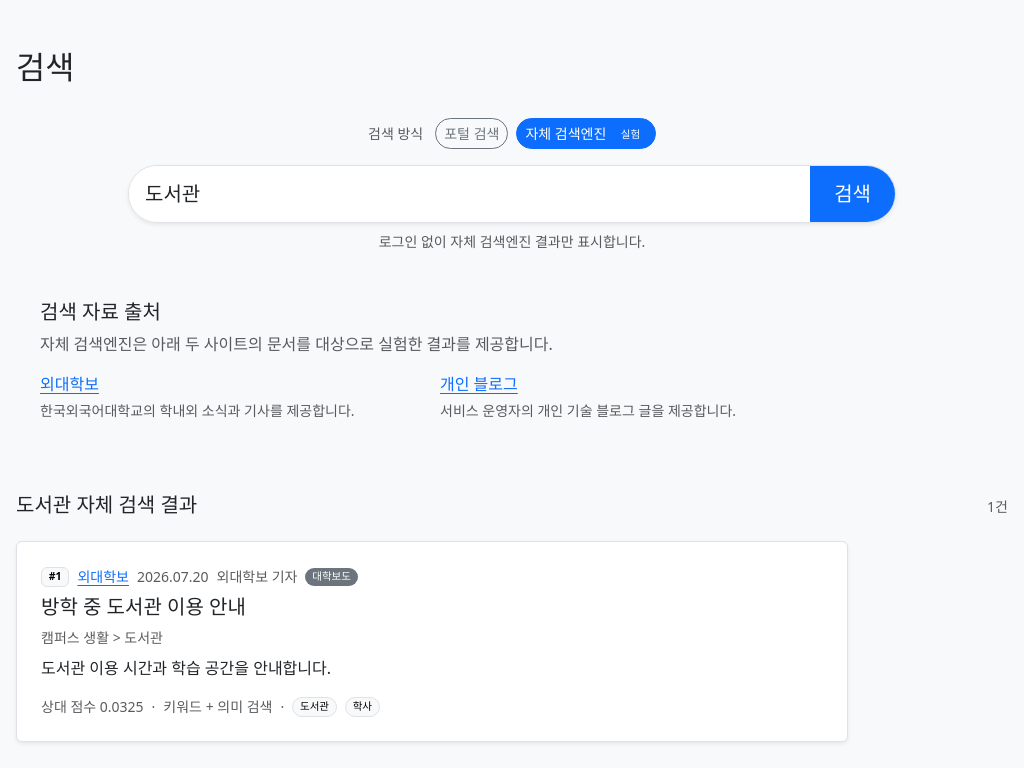
Scenario: SearchView › 검색 방식을 전환하면 이전 결과와 병행하지 않고 선택한 방식만 표시한다
This screenshot has width=1024, height=768.
Expected: the heading "도서관 자체 검색 결과" is shown, 16,493 -> 197,517
Click the radio button labelled "포털 검색".
click(512, 134)  # box 506,127 -> 518,140
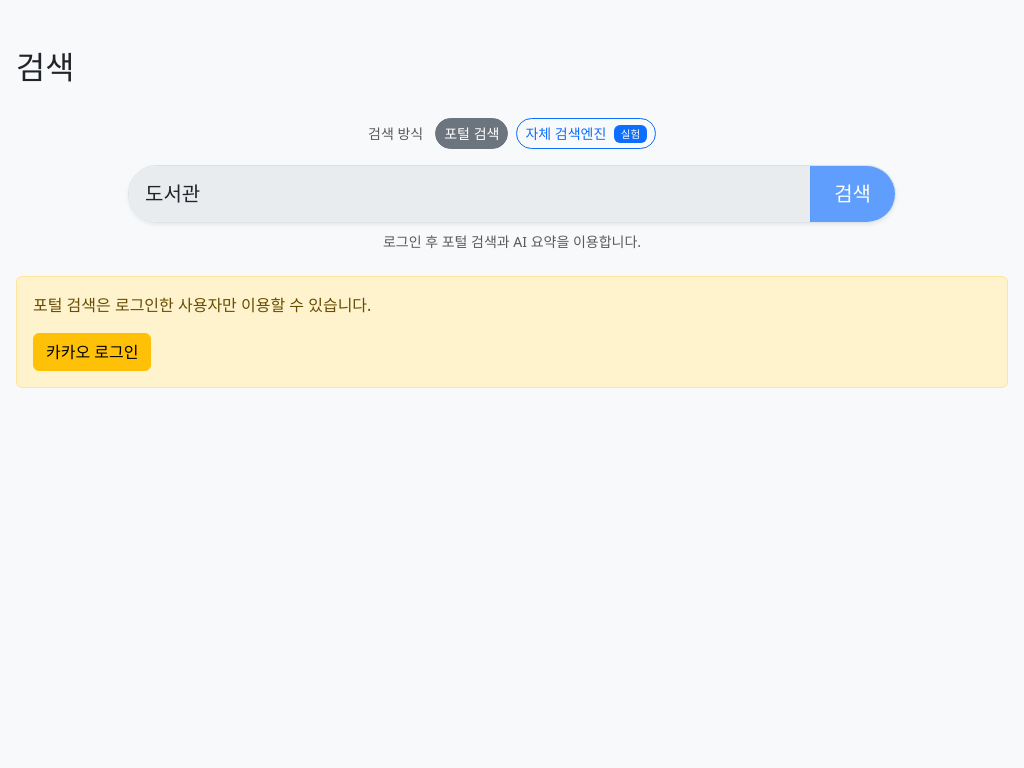
Expected: the text "포털 검색은 로그인한 사용자만 이용할 수 있습니다." is shown, 33,294 -> 371,316
Expected: the heading "도서관 자체 검색 결과" is gone
Click the radio button labelled "자체 검색엔진 실험".
click(512, 134)  # box 506,127 -> 518,140
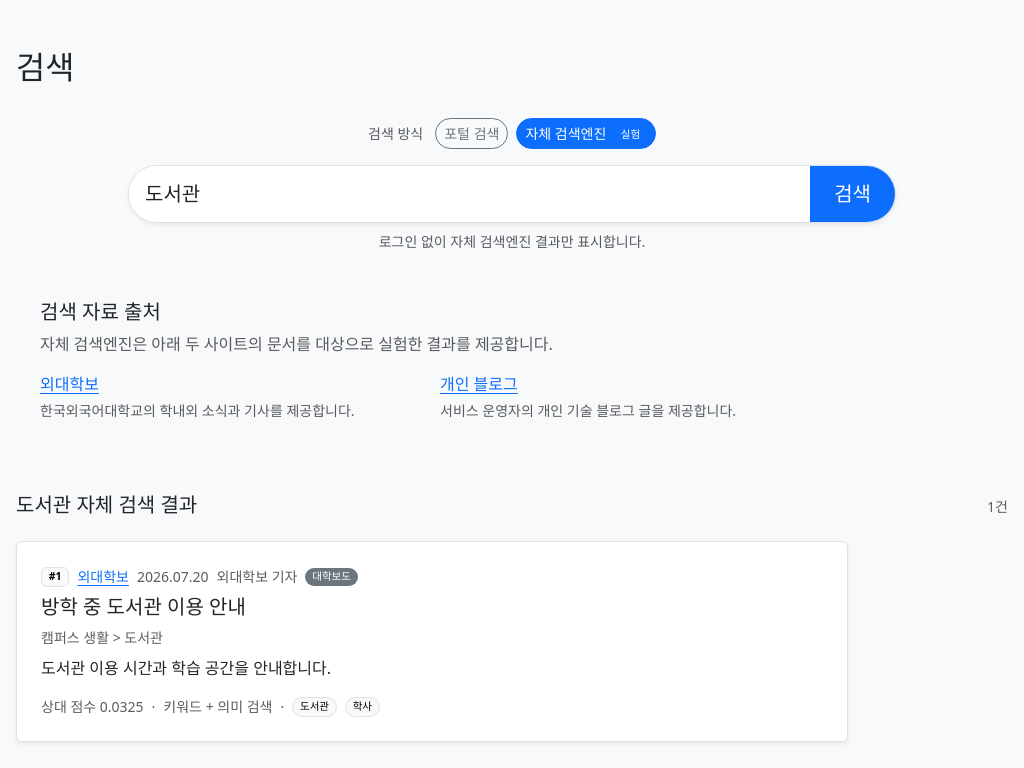
Expected: the heading "도서관 자체 검색 결과" is shown, 16,493 -> 197,517
